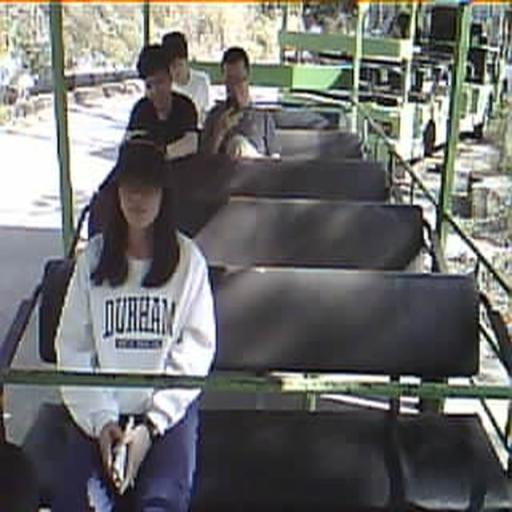persona: (54, 130, 218, 510), (125, 43, 200, 156), (200, 46, 268, 160), (162, 30, 212, 130)
